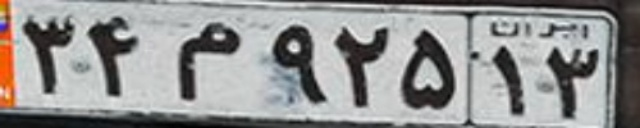1: (489, 44, 528, 115)
2: (333, 25, 389, 108)
3: (22, 16, 78, 93), (546, 45, 602, 119)
4: (86, 14, 140, 96)
5: (400, 28, 458, 108)
9: (272, 23, 329, 101)
mim: (175, 21, 242, 101)
